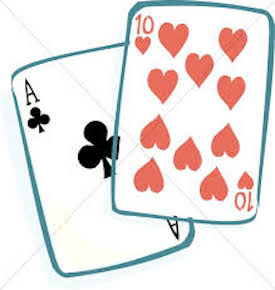AceOfClubs: (7, 45, 195, 279)
TenOfHearts: (110, 1, 275, 228)
